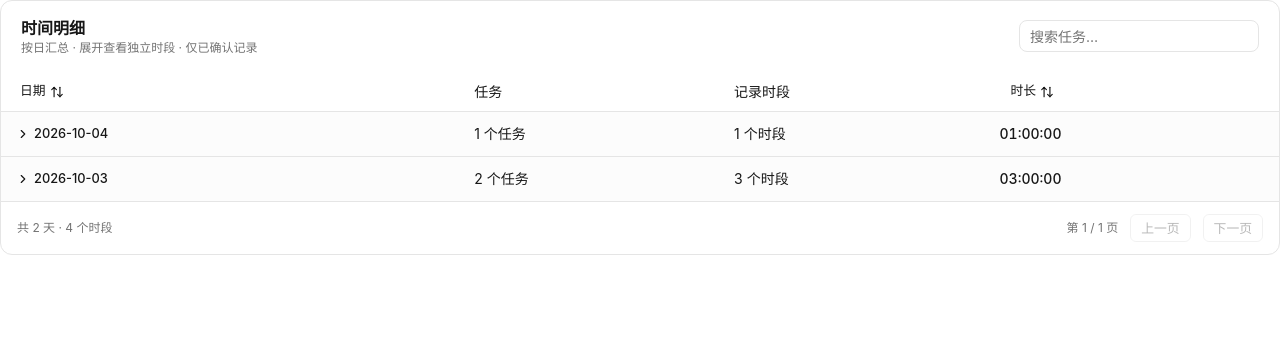
filters tasks and recalculates the visible daily total
This screenshot has width=1280, height=353.
Type "开发" into the field labelled "搜索任务" at (1139, 36), box left=1019, top=20, right=1259, bottom=52
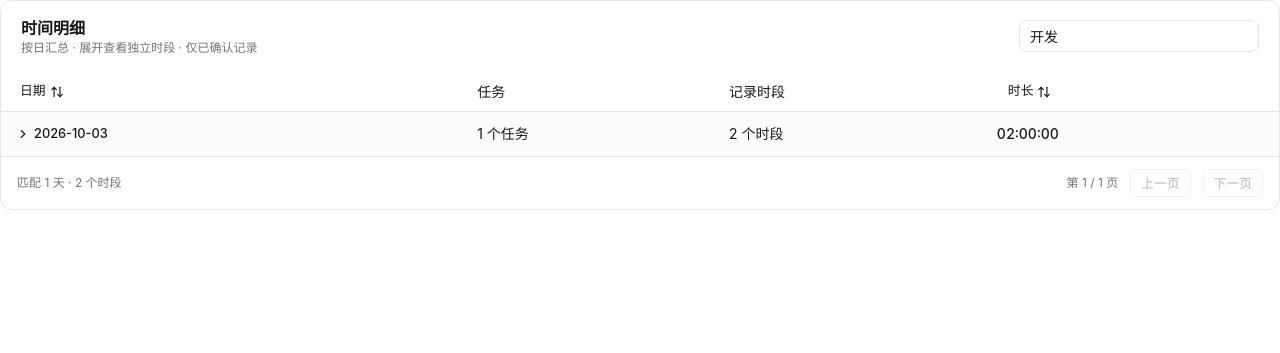
Expected: the text "02:00:00" is shown, left=997, top=125, right=1059, bottom=142
Replace the text in the field named "搜索任务" with "不存在" at (1139, 36), box left=1019, top=20, right=1259, bottom=52
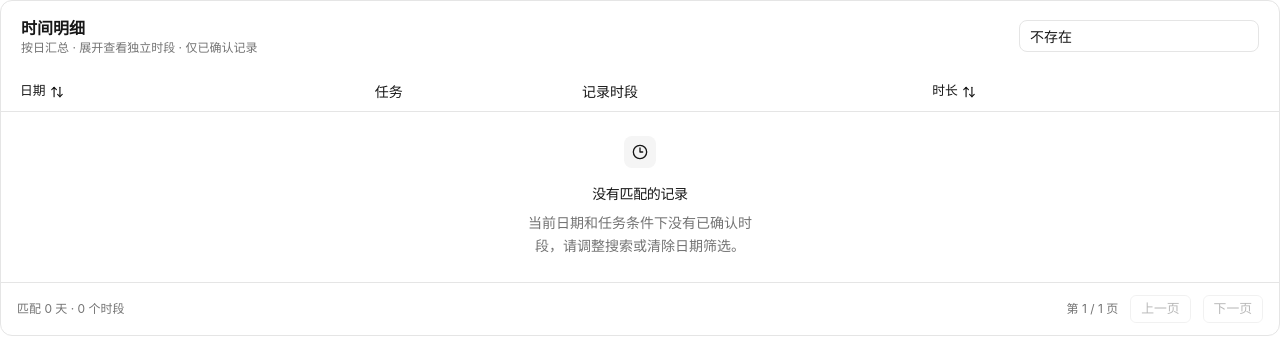
Expected: the text "没有匹配的记录" is shown, left=592, top=184, right=688, bottom=204
